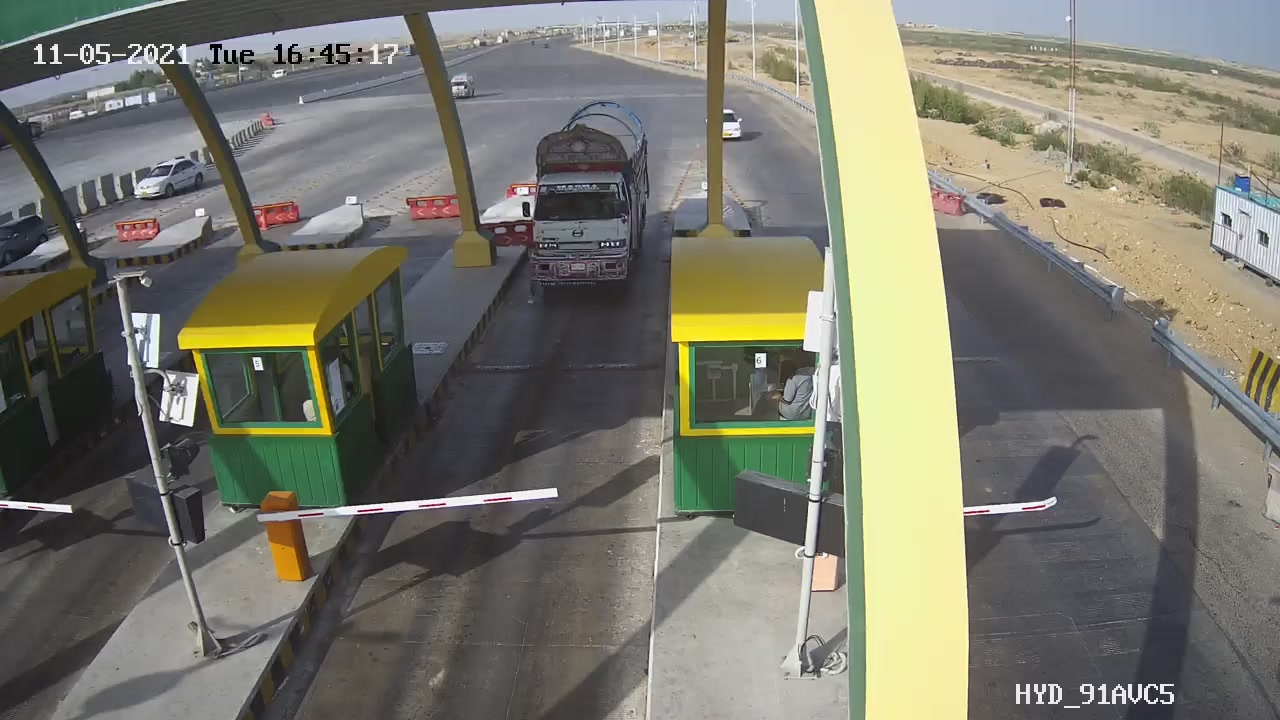F5: (498, 86, 676, 314)
